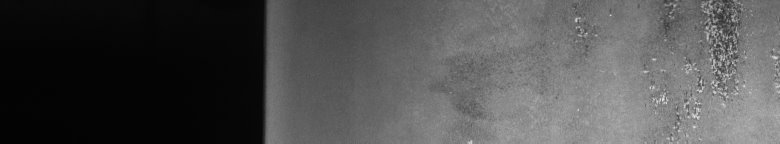hc: (575, 4, 776, 132)
